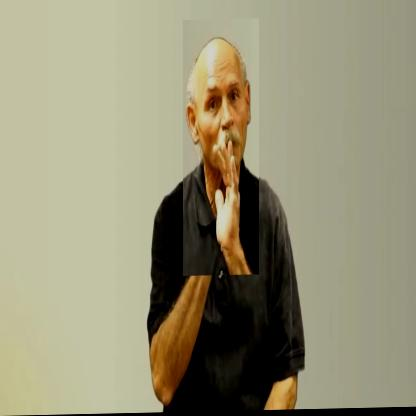Talk: (183, 19, 259, 277)
